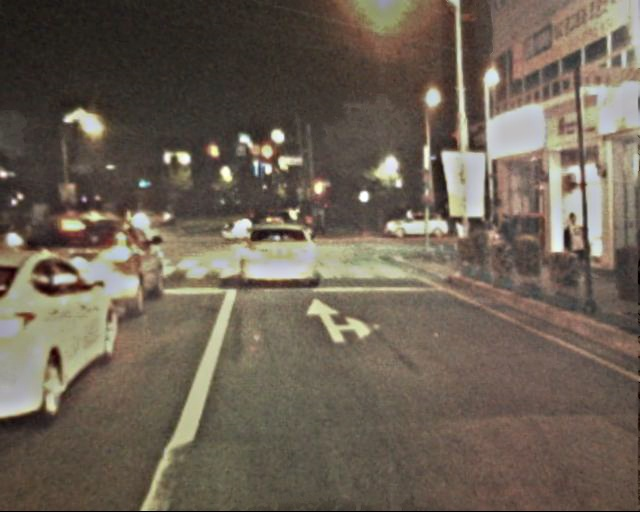person: (561, 212, 585, 278), (495, 212, 516, 264), (451, 216, 470, 263), (21, 206, 46, 237)
